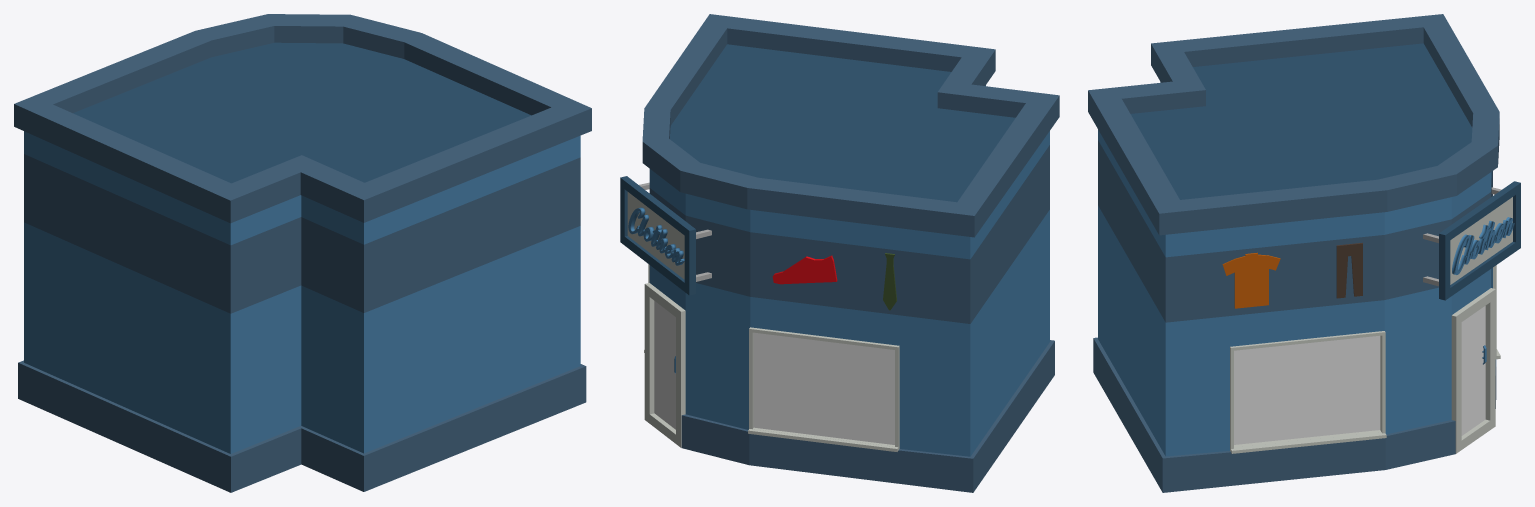
Rendered from Clothing.fbx.
3 renders of one model, left to right at view 1: azimuth 30°, elevation 25°; view 2: azimuth 150°, elevation 25°; view 3: azimuth 270°, elevation 25°, orthographic. The views are drawn at different scales.
Visible parts, largest first — view 1: Clothing Store; view 2: Clothing Store; view 3: Clothing Store.
Part boxes in pixels (x1=…): Clothing Store: x1=14, y1=14, x2=591, y2=492; Clothing Store: x1=620, y1=14, x2=1059, y2=492; Clothing Store: x1=1088, y1=14, x2=1520, y2=492.
Bounding box in the file's own units: 1707 × 1563 × 1120.
